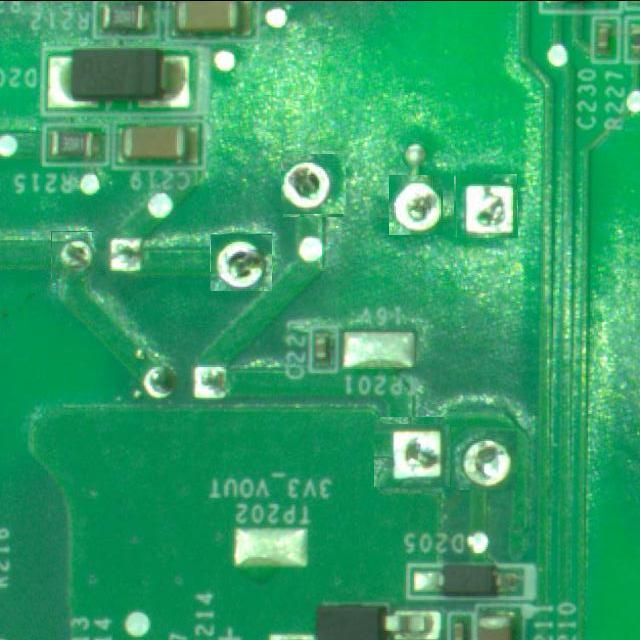lack_of_part: (377, 420, 447, 490), (452, 426, 516, 491), (282, 152, 344, 215), (455, 175, 517, 238), (210, 234, 272, 292), (388, 176, 445, 234), (51, 231, 95, 279)
